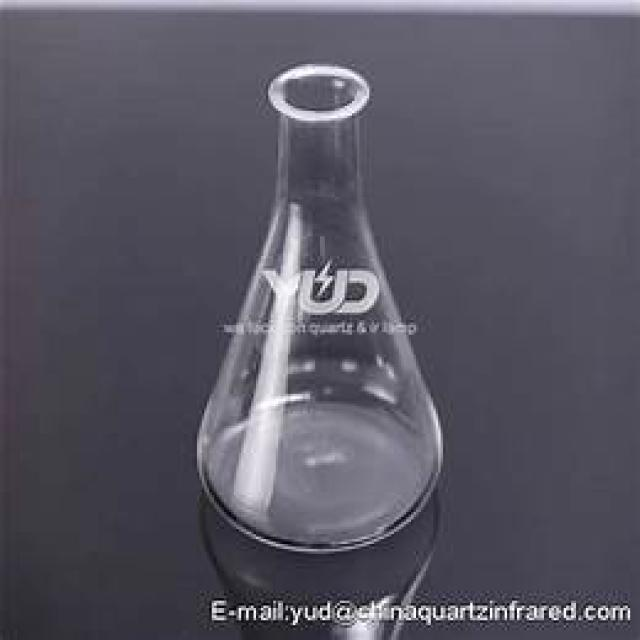Titrarion: (178, 60, 454, 553)
